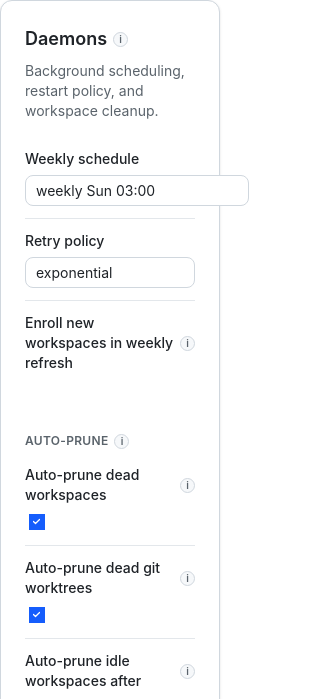
Scenario: SectionDaemons (editable, A4-b PR #1 / Task 11) › Reset reverts edits and clears the dirty state
This screenshot has width=320, height=699.
Type "weekly Tue 14:30" into the field with test id "daemons-weekly-schedule-input".
click(137, 190); type("weekly Tue 14:30")  # box [25,175,249,206]
(page scrolled)
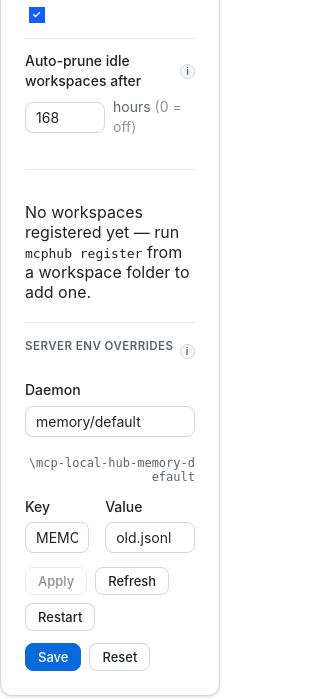
Result: the button with test id "daemons-reset" is enabled
Click the button with test id "daemons-reset".
click(120, 657)  # box [89,643,150,671]
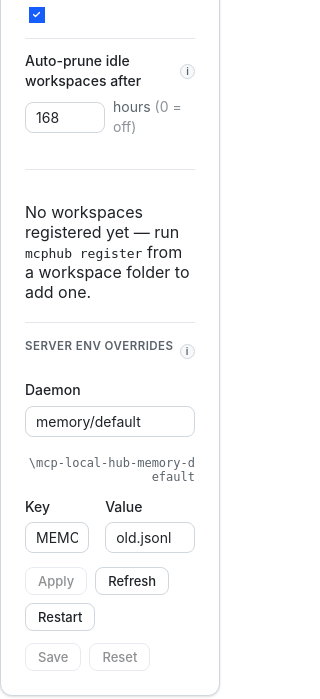
Result: the button with test id "daemons-save" is disabled at [25,643,81,671]
